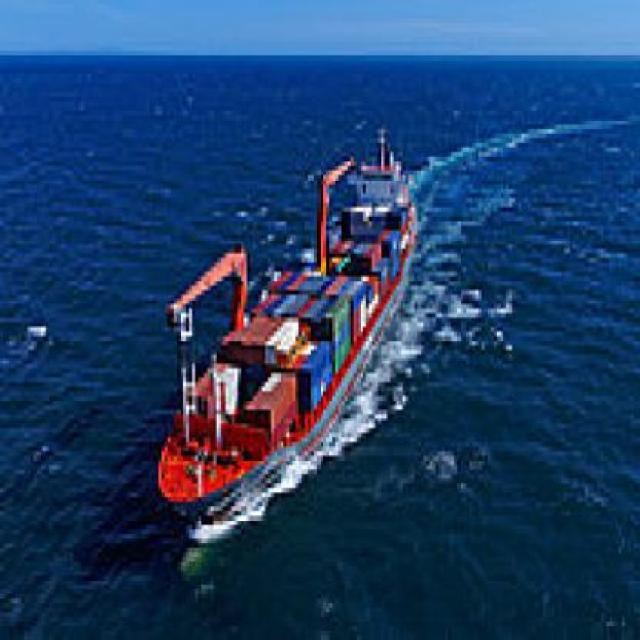container: (154, 111, 437, 554)
